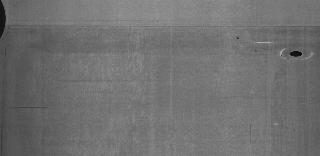punching hole: (287, 48, 307, 58)
welding line: (4, 22, 320, 32)
